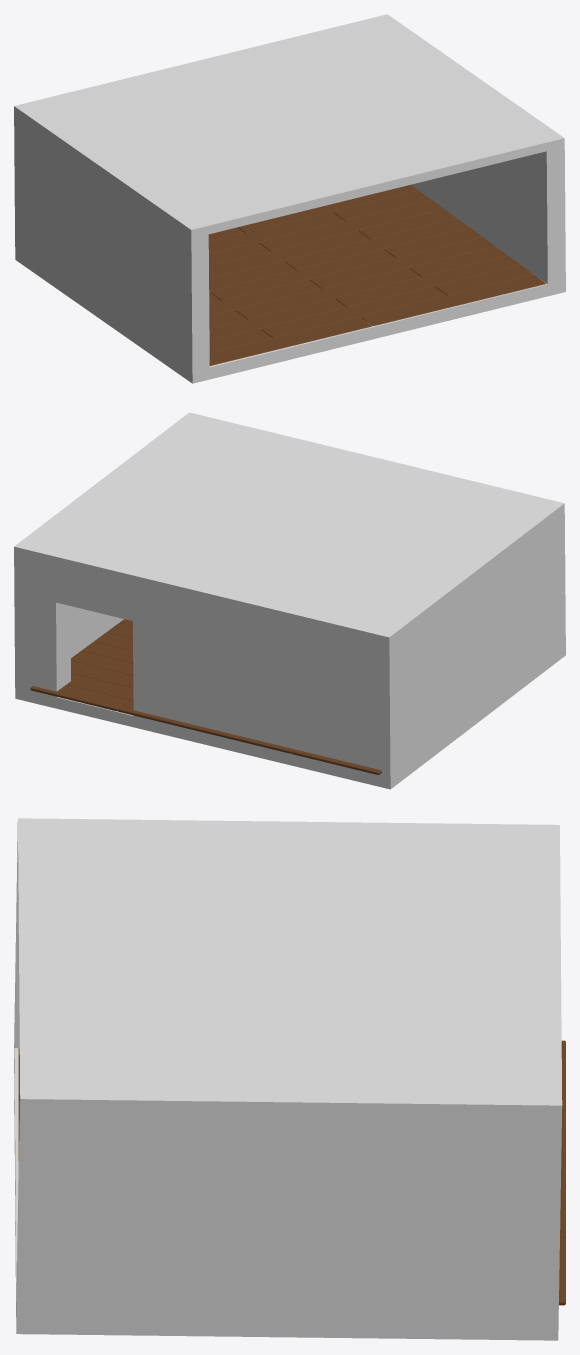
Rendered from room long long.fbx.
3 renders of one model, top to bottom at view 1: azimuth 30°, elevation 25°; view 2: azimuth 150°, elevation 25°; view 3: azimuth 270°, elevation 25°, orthographic. The views are drawn at different scales.
Visible parts, largest first — view 1: Box split, Plane.002; view 2: Box split, Plane.002; view 3: Box split, Plane.002.
Part boxes in pixels (box(x1,y1,x2,y2)): Box split: box(14, 14, 565, 383); Plane.002: box(208, 184, 545, 365); Box split: box(14, 412, 565, 789); Plane.002: box(30, 619, 381, 774); Box split: box(14, 818, 562, 1340); Plane.002: box(18, 1040, 565, 1305).
Bounding box in the file's own units: 1627 × 653 × 1348.
